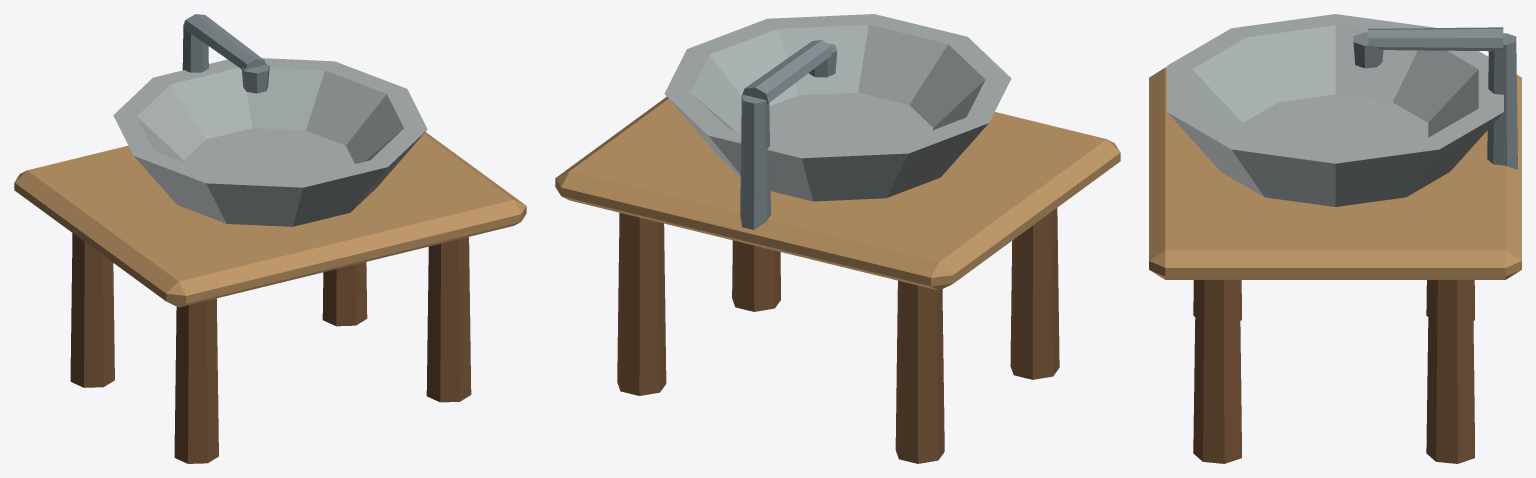
Rendered from CC_Washbasin.fbx.
3 renders of one model, left to right at view 1: azimuth 30°, elevation 25°; view 2: azimuth 150°, elevation 25°; view 3: azimuth 270°, elevation 25°, orthographic. The views are drawn at different scales.
Visible parts, largest first — view 1: Counter, Basin, Leg.036, Leg.038, Leg.037, Leg.039, Tap spout, Tap riser, Tap outlet; view 2: Counter, Basin, Leg.037, Leg.039, Leg.036, Tap riser, Leg.038, Tap spout; view 3: Basin, Counter, Leg.038, Leg.039, Tap riser, Tap spout, Tap outlet.
Boxes of the visible parts, x1=… form: Counter: x1=14, y1=132, x2=526, y2=307; Basin: x1=113, y1=58, x2=427, y2=226; Leg.036: x1=174, y1=298, x2=218, y2=463; Leg.038: x1=426, y1=237, x2=471, y2=402; Leg.037: x1=70, y1=233, x2=114, y2=387; Leg.039: x1=322, y1=262, x2=367, y2=326; Tap spout: x1=183, y1=14, x2=265, y2=69; Tap riser: x1=182, y1=20, x2=208, y2=72; Tap outlet: x1=241, y1=64, x2=269, y2=93; Counter: x1=555, y1=97, x2=1120, y2=290; Basin: x1=664, y1=14, x2=1011, y2=201; Leg.037: x1=895, y1=280, x2=944, y2=463; Leg.039: x1=617, y1=213, x2=666, y2=395; Leg.036: x1=1010, y1=208, x2=1059, y2=379; Tap riser: x1=740, y1=95, x2=770, y2=229; Leg.038: x1=732, y1=240, x2=780, y2=311; Tap spout: x1=742, y1=40, x2=832, y2=104; Basin: x1=1167, y1=14, x2=1503, y2=206; Counter: x1=1149, y1=67, x2=1521, y2=279; Leg.038: x1=1193, y1=280, x2=1241, y2=463; Leg.039: x1=1426, y1=280, x2=1474, y2=463; Tap riser: x1=1487, y1=33, x2=1517, y2=169; Tap spout: x1=1368, y1=27, x2=1503, y2=51; Tap outlet: x1=1353, y1=32, x2=1383, y2=68.
Size of the model in its own units: 1.5 by 1.26 by 1.2.
